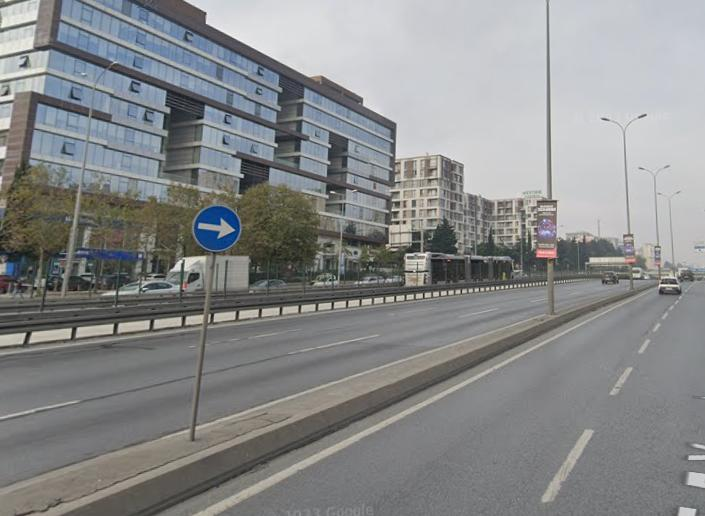turnright: (192, 203, 242, 254)
